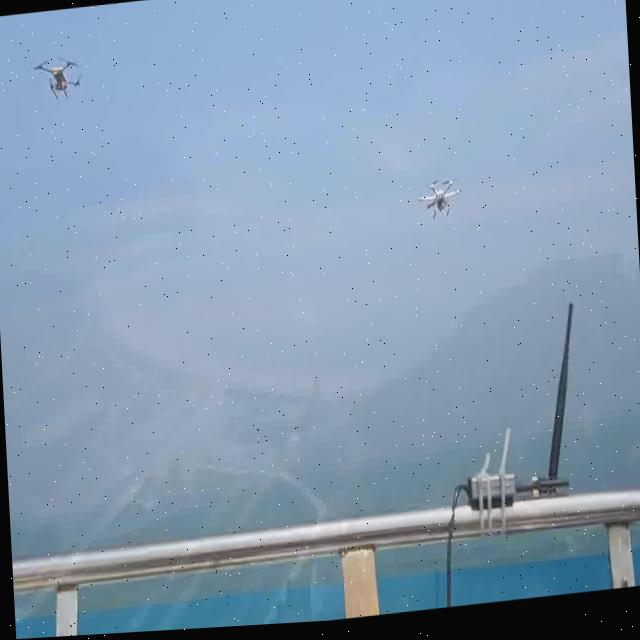drone: (1, 33, 116, 121)
